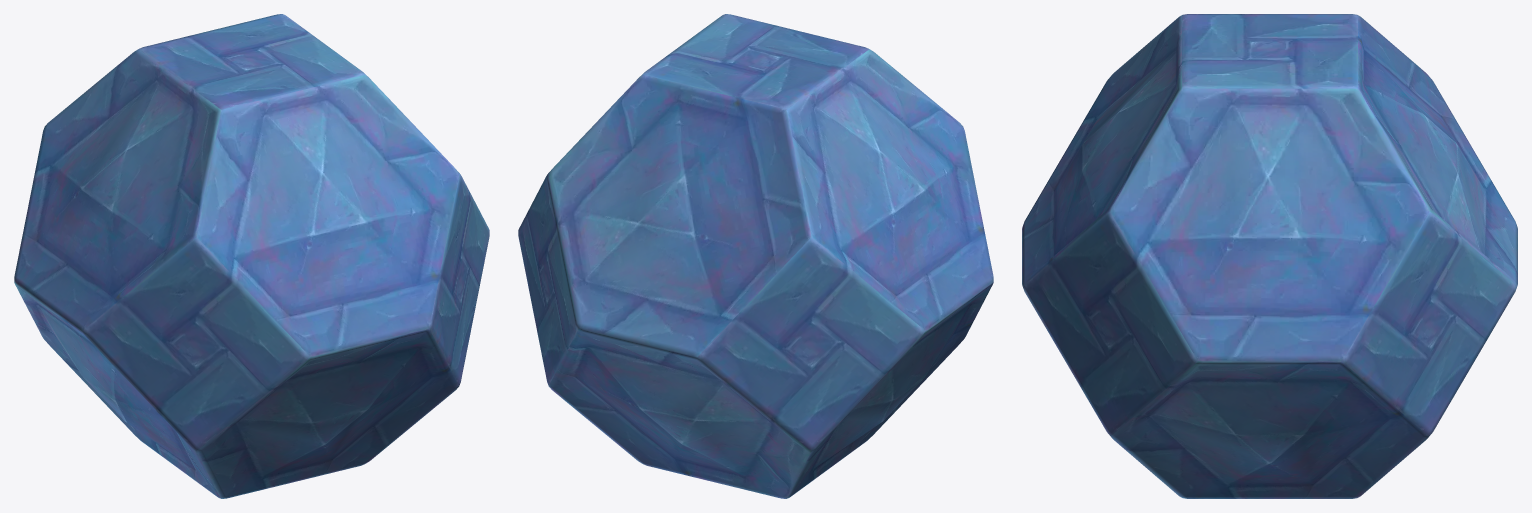
3 views of the same model, side by side, from view 1: azimuth 30°, elevation 25°; view 2: azimuth 150°, elevation 25°; view 3: azimuth 270°, elevation 25° (orthographic). The views are drawn at different scales.
Size of the model in its own units: 7.01 by 6.45 by 7.01.
1 material, 1 textured.
